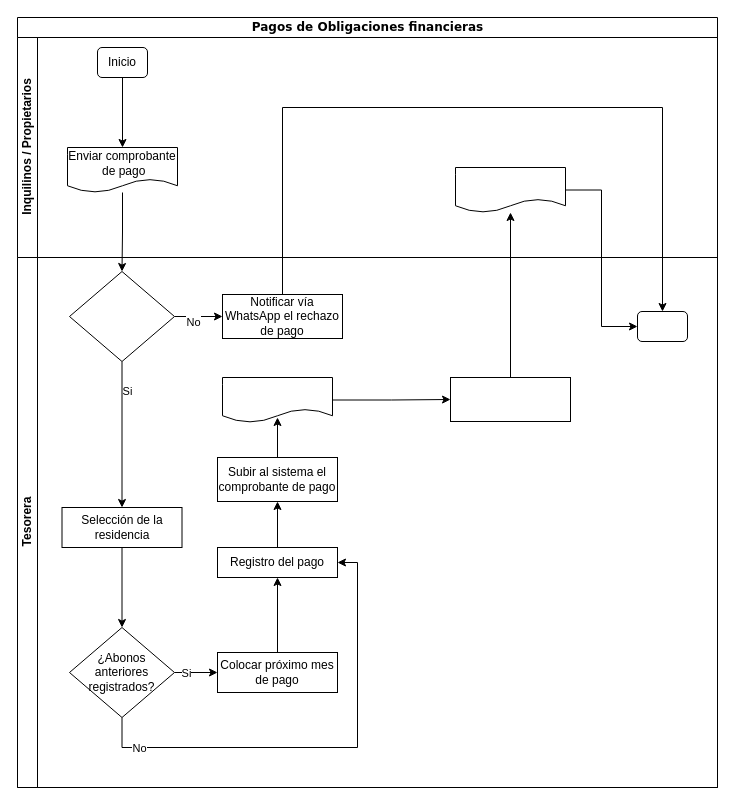
Some shapes in this 735 by 805 pixel diagram are drawn without their labels. The centre of each missing label's shape, as x and y in pixels:
"Enviar recibo por correo electrónico" goes at (x=510, y=399).
"Fin" goes at (x=662, y=326).
"Generar recibo de cobro" goes at (x=277, y=399).
"Recibe el recibo de cobro" goes at (x=510, y=189).
"¿Comprobante válido?" goes at (x=121, y=316).
